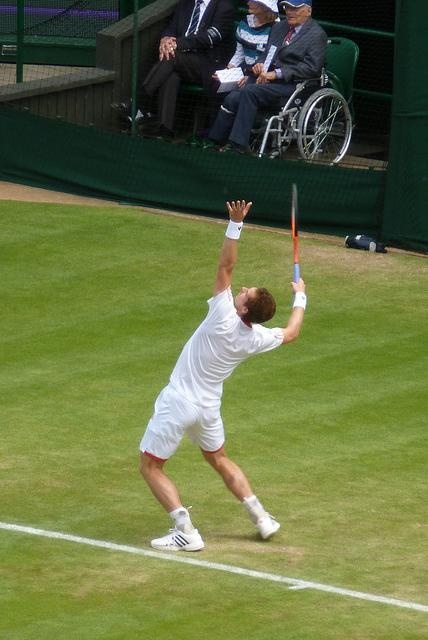person: (137, 195, 309, 557)
